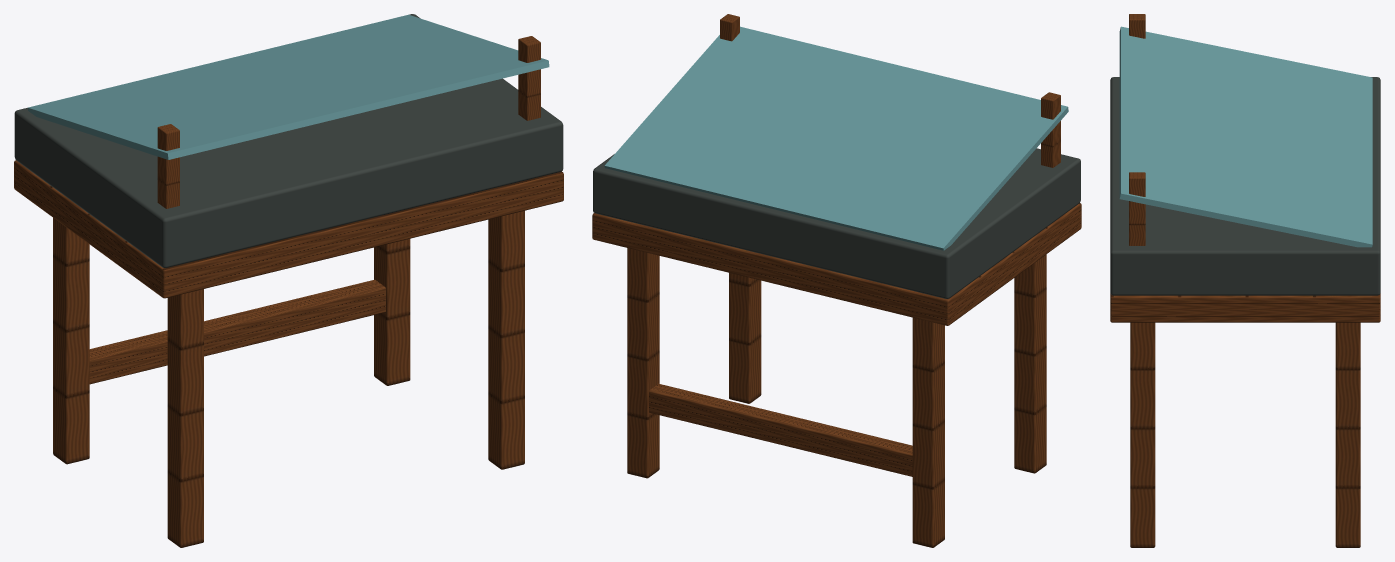
The model's file is survival-food-and-preservation-solar-dryer-55b576b8__21806.glb.
3 renders of one model, left to right at view 1: azimuth 30°, elevation 25°; view 2: azimuth 150°, elevation 25°; view 3: azimuth 270°, elevation 25°, orthographic. The views are drawn at different scales.
Visible parts, largest first — view 1: solar-dryer; view 2: solar-dryer; view 3: solar-dryer.
Boxes of the visible parts, x1,y1,x2,y2 form: solar-dryer: (14,14,563,547); solar-dryer: (592,14,1081,547); solar-dryer: (1110,14,1380,547).
Size of the model in its own units: 1 by 1 by 0.65.
3 materials, 1 textured.
